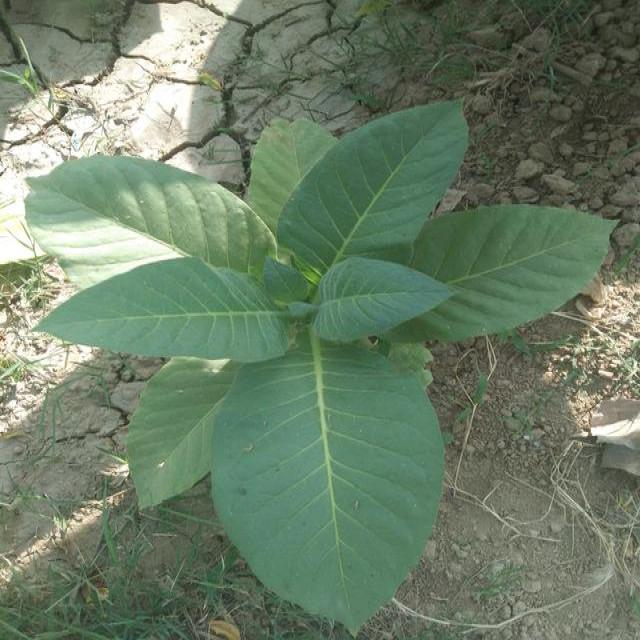crop: (36, 95, 607, 607)
